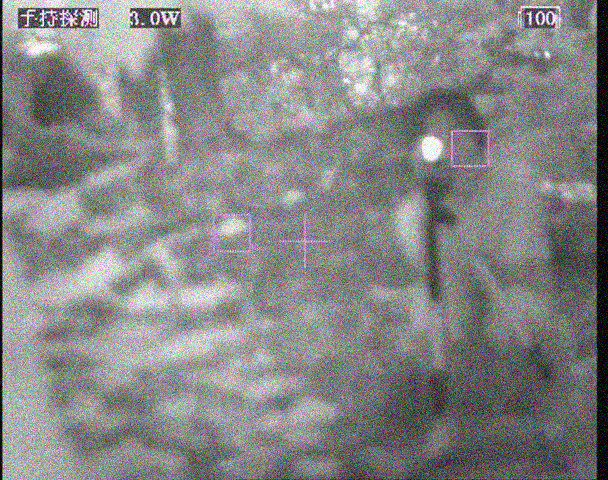my: (420, 135, 447, 162)
